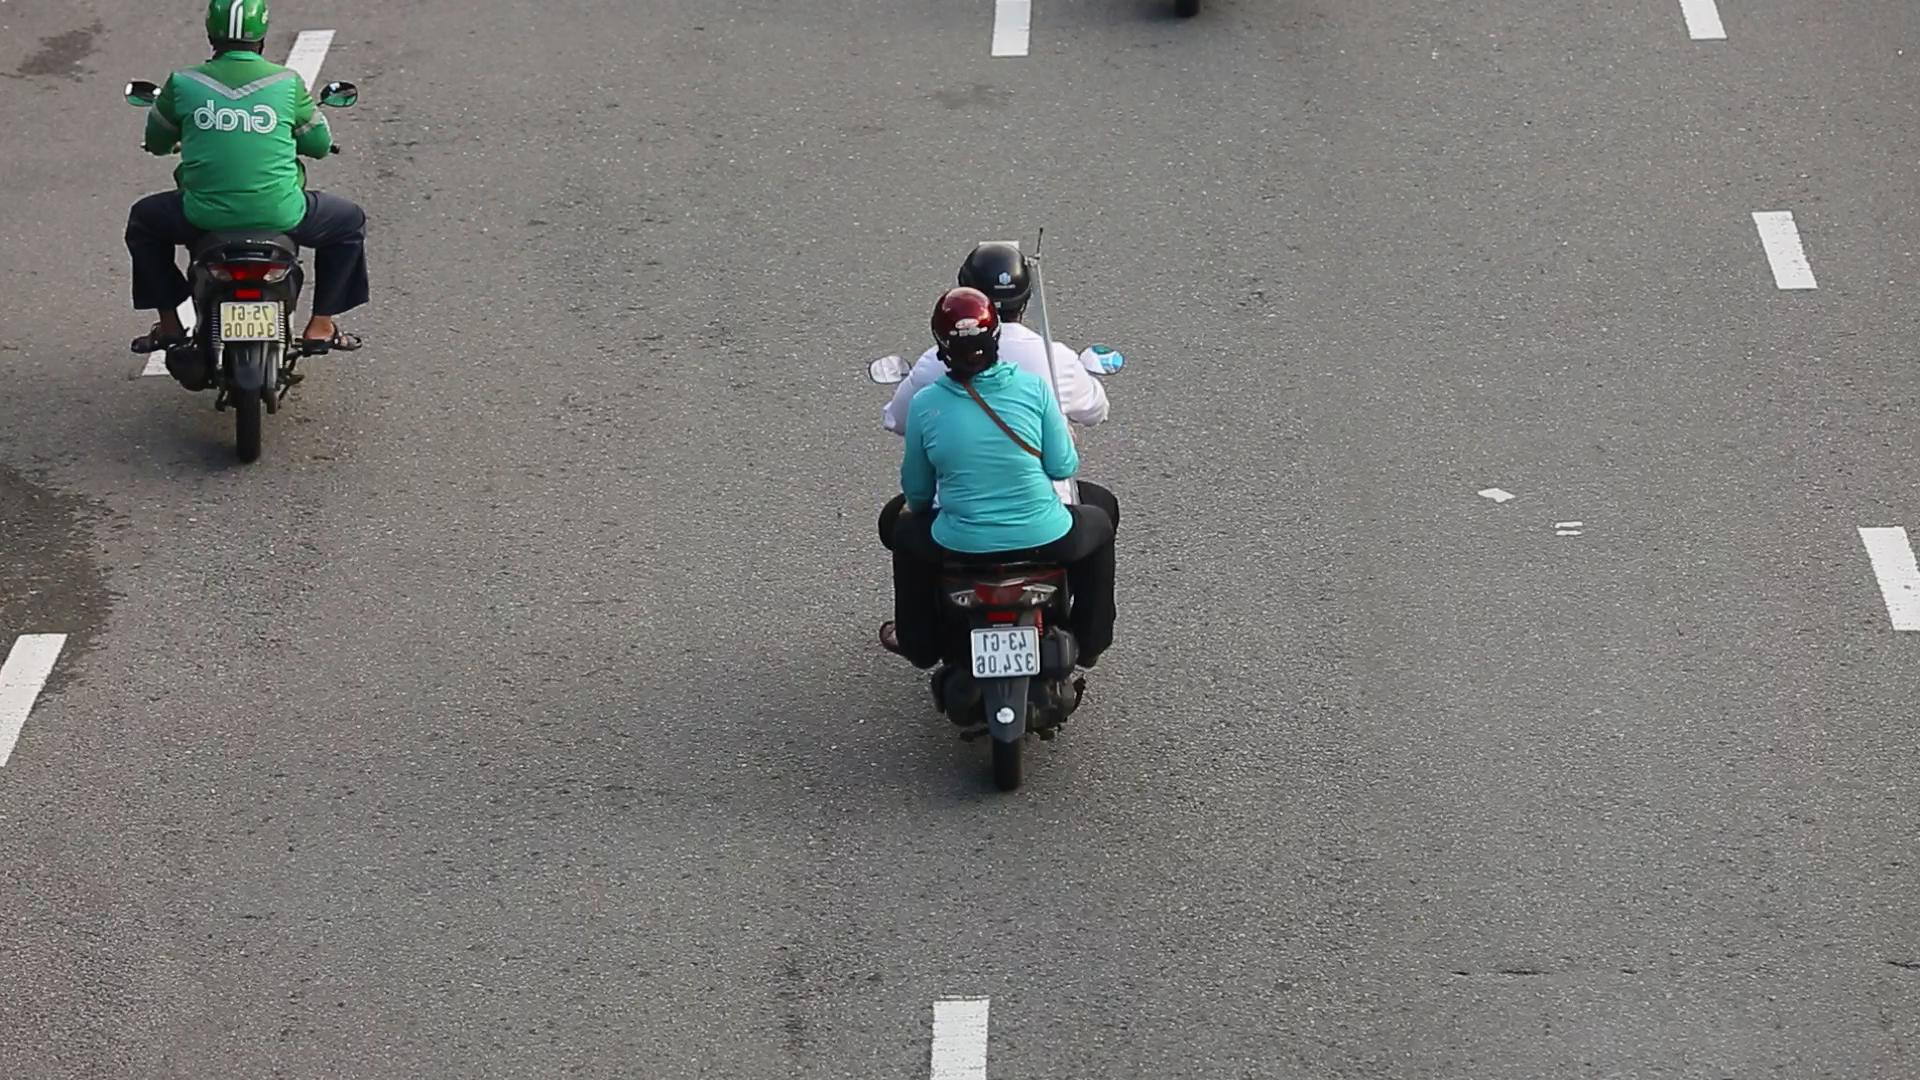motobike: (865, 236, 1131, 802), (104, 0, 369, 476)
